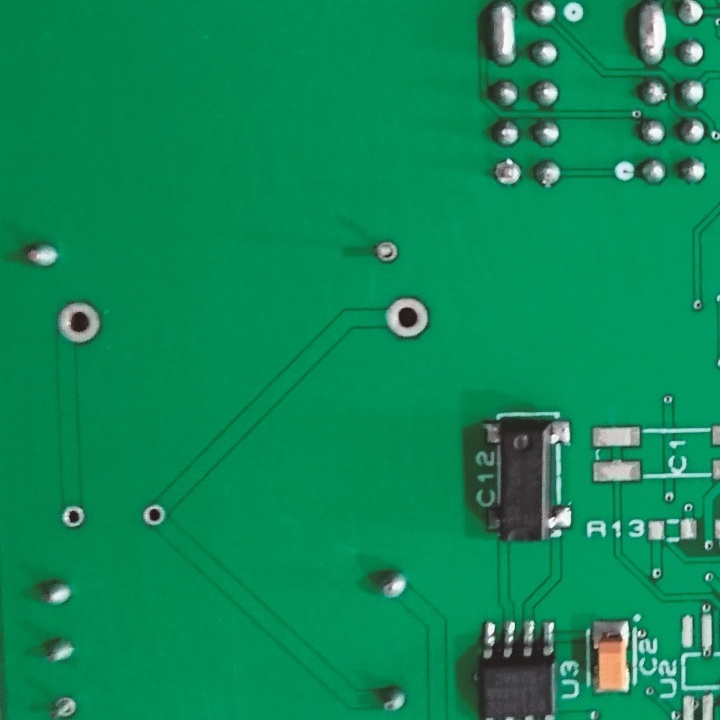F: (381, 290, 432, 342), (54, 299, 104, 346), (490, 156, 523, 190), (59, 498, 89, 533), (45, 692, 79, 720), (369, 235, 401, 264), (140, 501, 169, 529)
P: (481, 1, 521, 68), (633, 1, 670, 70)
